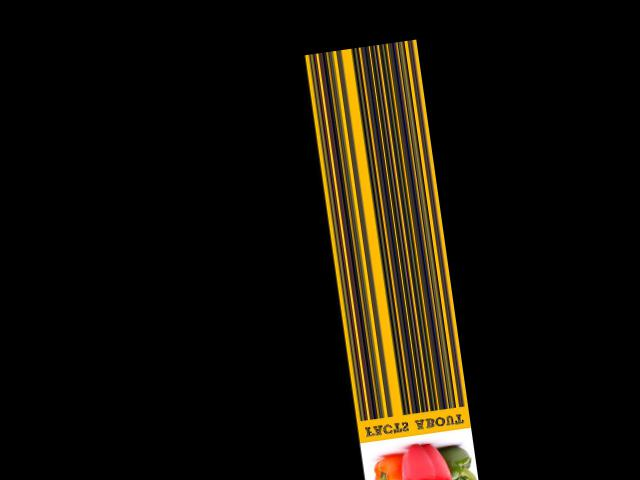bell_pepper: (442, 436, 477, 480)
